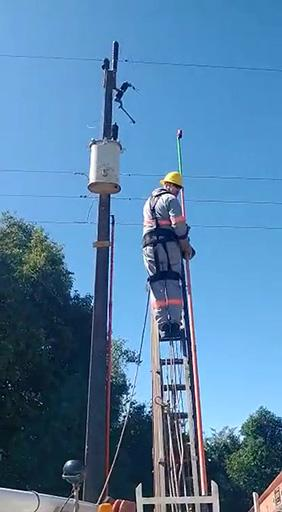Vara_Manobra: (176, 139, 209, 496)
